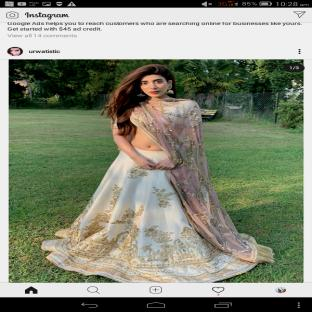Human: (41, 65, 274, 282)
